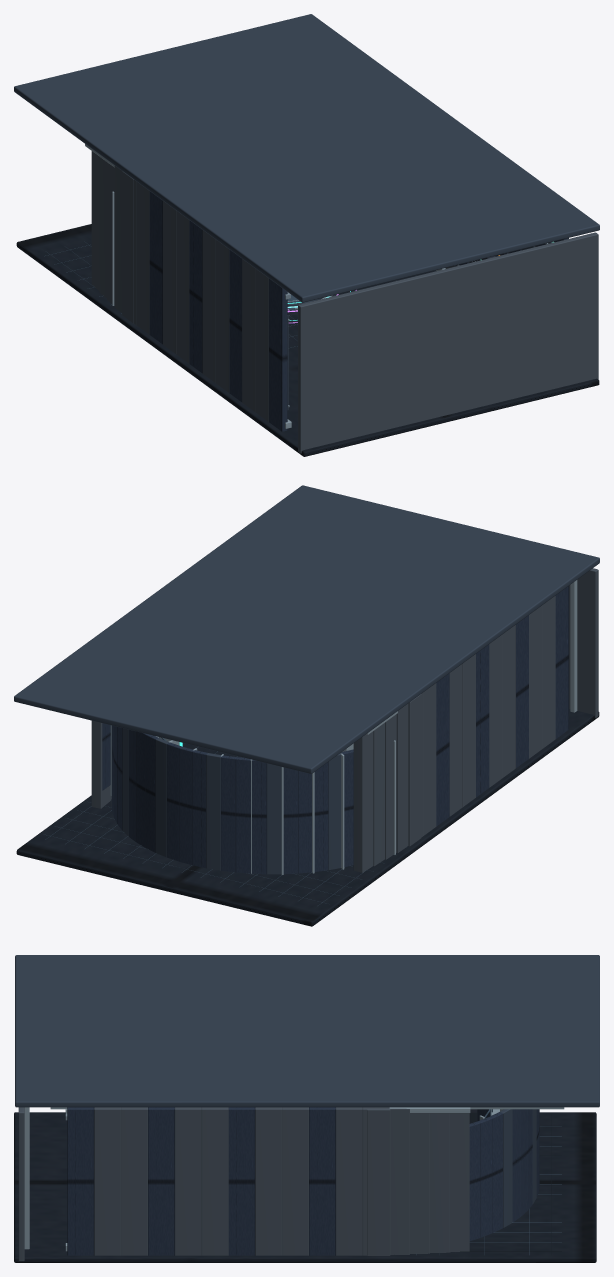
The model's file is synestra_reactor_decor_r213.glb.
3 views of the same model, one above another, from view 1: azimuth 30°, elevation 25°; view 2: azimuth 150°, elevation 25°; view 3: azimuth 270°, elevation 25° (orthographic).
Parts seen in each view (by area): view 1: CEILING_ROOF_CLOSED, CAMERA_BACK_WALL, FLOOR_BASE, SIDE_BULKHEAD_-1_00, SIDE_BULKHEAD_-1_09, SIDE_BULKHEAD_-1_05, SIDE_BULKHEAD_-1_01, SIDE_BULKHEAD_-1_02, SIDE_BULKHEAD_-1_03, SIDE_BULKHEAD_-1_04, SIDE_BULKHEAD_-1_06, SIDE_BULKHEAD_-1_07 (+7 smaller); view 2: CEILING_ROOF_CLOSED, FLOOR_BASE, CAMERA_BACK_WALL, SIDE_REAR_SEALED_WING_-1_04, SIDE_REAR_SEALED_WING_-1_00, SIDE_BULKHEAD_-1_08, SIDE_BULKHEAD_-1_01, SIDE_BULKHEAD_-1_04, SIDE_BULKHEAD_-1_05, SIDE_BULKHEAD_-1_06, SIDE_BULKHEAD_-1_02, SIDE_BULKHEAD_-1_09 (+29 smaller); view 3: CEILING_ROOF_CLOSED, FLOOR_BASE, SIDE_BULKHEAD_1_00, SIDE_BULKHEAD_1_01, SIDE_BULKHEAD_1_05, SIDE_BULKHEAD_1_06, SIDE_BULKHEAD_1_07, SIDE_BULKHEAD_1_02, SIDE_BULKHEAD_1_03, SIDE_BULKHEAD_1_04, SIDE_BULKHEAD_1_08, SIDE_BULKHEAD_1_09 (+18 smaller).
Boxes of the visible parts, x1=… form: CEILING_ROOF_CLOSED: x1=14, y1=14, x2=599, y2=302; CAMERA_BACK_WALL: x1=298, y1=232, x2=598, y2=453; FLOOR_BASE: x1=16, y1=224, x2=599, y2=456; SIDE_BULKHEAD_-1_00: x1=269, y1=278, x2=287, y2=431; SIDE_BULKHEAD_-1_09: x1=149, y1=191, x2=162, y2=344; SIDE_BULKHEAD_-1_05: x1=202, y1=230, x2=215, y2=382; SIDE_BULKHEAD_-1_01: x1=255, y1=269, x2=268, y2=421; SIDE_BULKHEAD_-1_02: x1=242, y1=259, x2=255, y2=411; SIDE_BULKHEAD_-1_03: x1=229, y1=249, x2=242, y2=402; SIDE_BULKHEAD_-1_04: x1=216, y1=240, x2=229, y2=392; SIDE_BULKHEAD_-1_06: x1=189, y1=220, x2=202, y2=373; SIDE_BULKHEAD_-1_07: x1=176, y1=211, x2=189, y2=363; CEILING_ROOF_CLOSED: x1=14, y1=485, x2=599, y2=773; FLOOR_BASE: x1=16, y1=709, x2=599, y2=926; CAMERA_BACK_WALL: x1=569, y1=568, x2=598, y2=718; SIDE_REAR_SEALED_WING_-1_04: x1=353, y1=731, x2=373, y2=872; SIDE_REAR_SEALED_WING_-1_00: x1=408, y1=694, x2=421, y2=846; SIDE_BULKHEAD_-1_08: x1=449, y1=663, x2=462, y2=816; SIDE_BULKHEAD_-1_01: x1=542, y1=596, x2=555, y2=748; SIDE_BULKHEAD_-1_04: x1=502, y1=625, x2=515, y2=777; SIDE_BULKHEAD_-1_05: x1=489, y1=634, x2=502, y2=787; SIDE_BULKHEAD_-1_06: x1=476, y1=644, x2=489, y2=797; SIDE_BULKHEAD_-1_02: x1=529, y1=605, x2=542, y2=758; SIDE_BULKHEAD_-1_09: x1=436, y1=673, x2=449, y2=826; CEILING_ROOF_CLOSED: x1=15, y1=955, x2=599, y2=1107; FLOOR_BASE: x1=14, y1=1112, x2=596, y2=1262; SIDE_BULKHEAD_1_00: x1=67, y1=1107, x2=94, y2=1255; SIDE_BULKHEAD_1_01: x1=94, y1=1107, x2=121, y2=1255; SIDE_BULKHEAD_1_05: x1=201, y1=1107, x2=228, y2=1255; SIDE_BULKHEAD_1_06: x1=228, y1=1107, x2=255, y2=1255; SIDE_BULKHEAD_1_07: x1=255, y1=1107, x2=282, y2=1255; SIDE_BULKHEAD_1_02: x1=121, y1=1107, x2=147, y2=1255; SIDE_BULKHEAD_1_03: x1=148, y1=1107, x2=174, y2=1255; SIDE_BULKHEAD_1_04: x1=175, y1=1107, x2=201, y2=1255; SIDE_BULKHEAD_1_08: x1=282, y1=1107, x2=308, y2=1255; SIDE_BULKHEAD_1_09: x1=309, y1=1107, x2=335, y2=1255.
Bounding box in the file's own units: 15.2 × 7.8 × 25.55.
15 materials, 3 textured.
